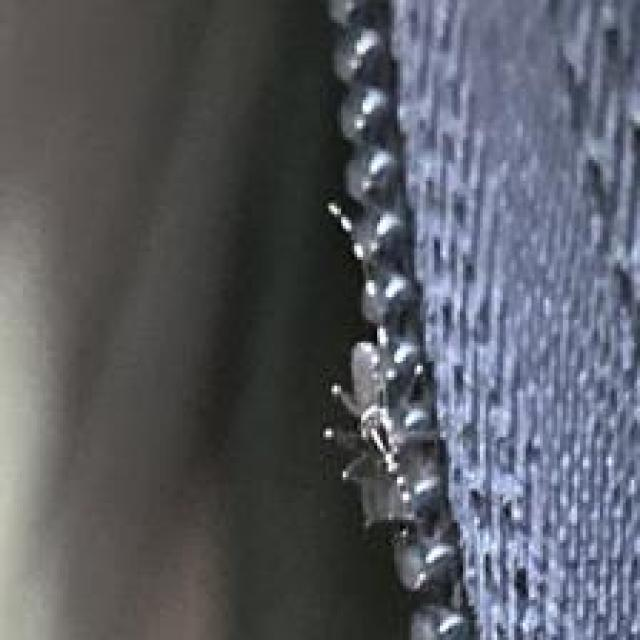Aedes albopictus: (314, 0, 486, 640)
